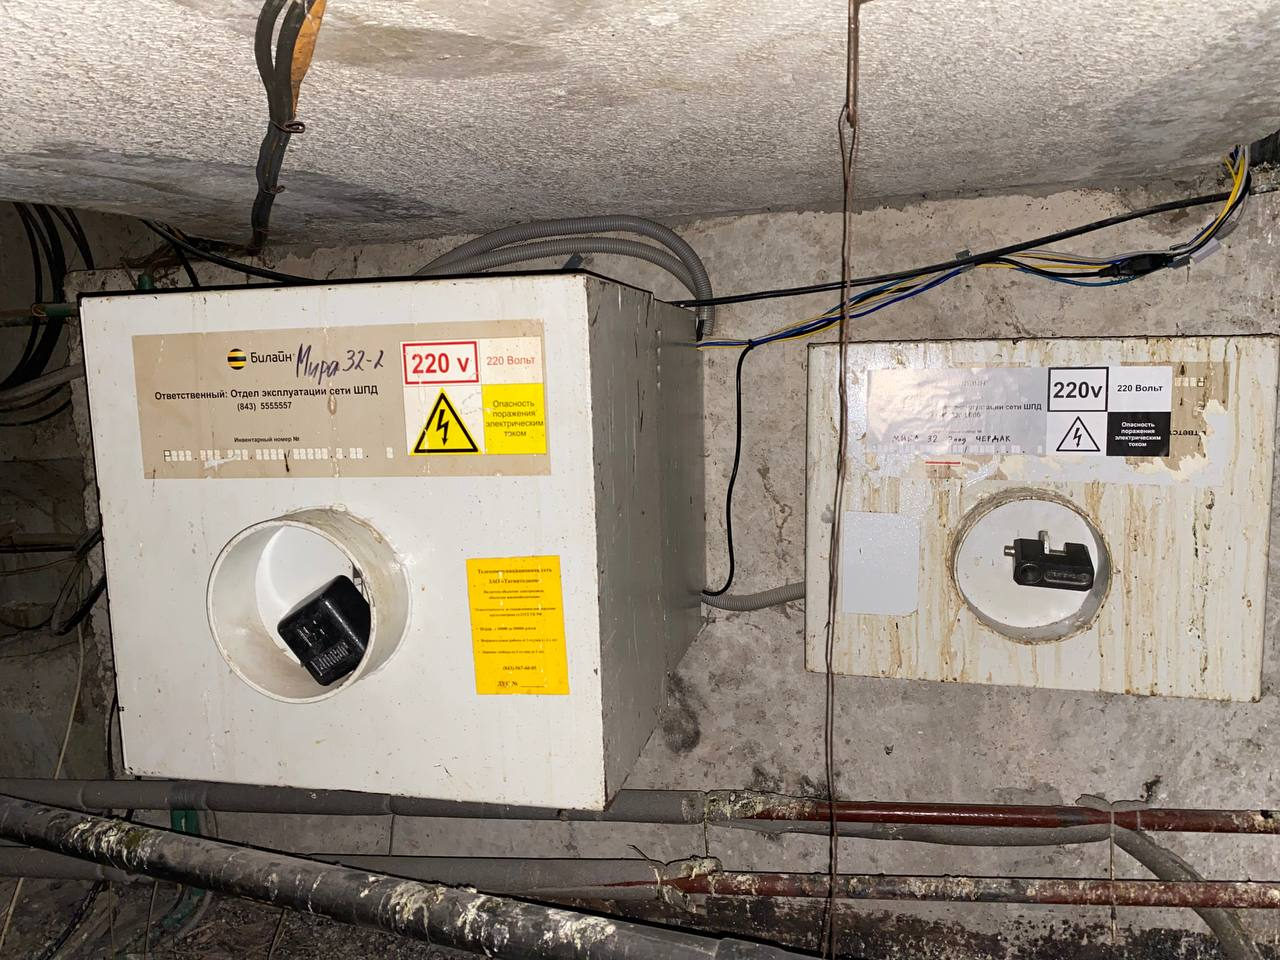shta-9: (72, 265, 713, 819)
shta-ps: (798, 333, 1278, 706)
